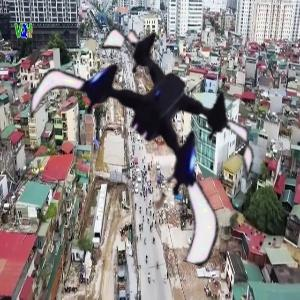drone: (25, 5, 266, 246)
